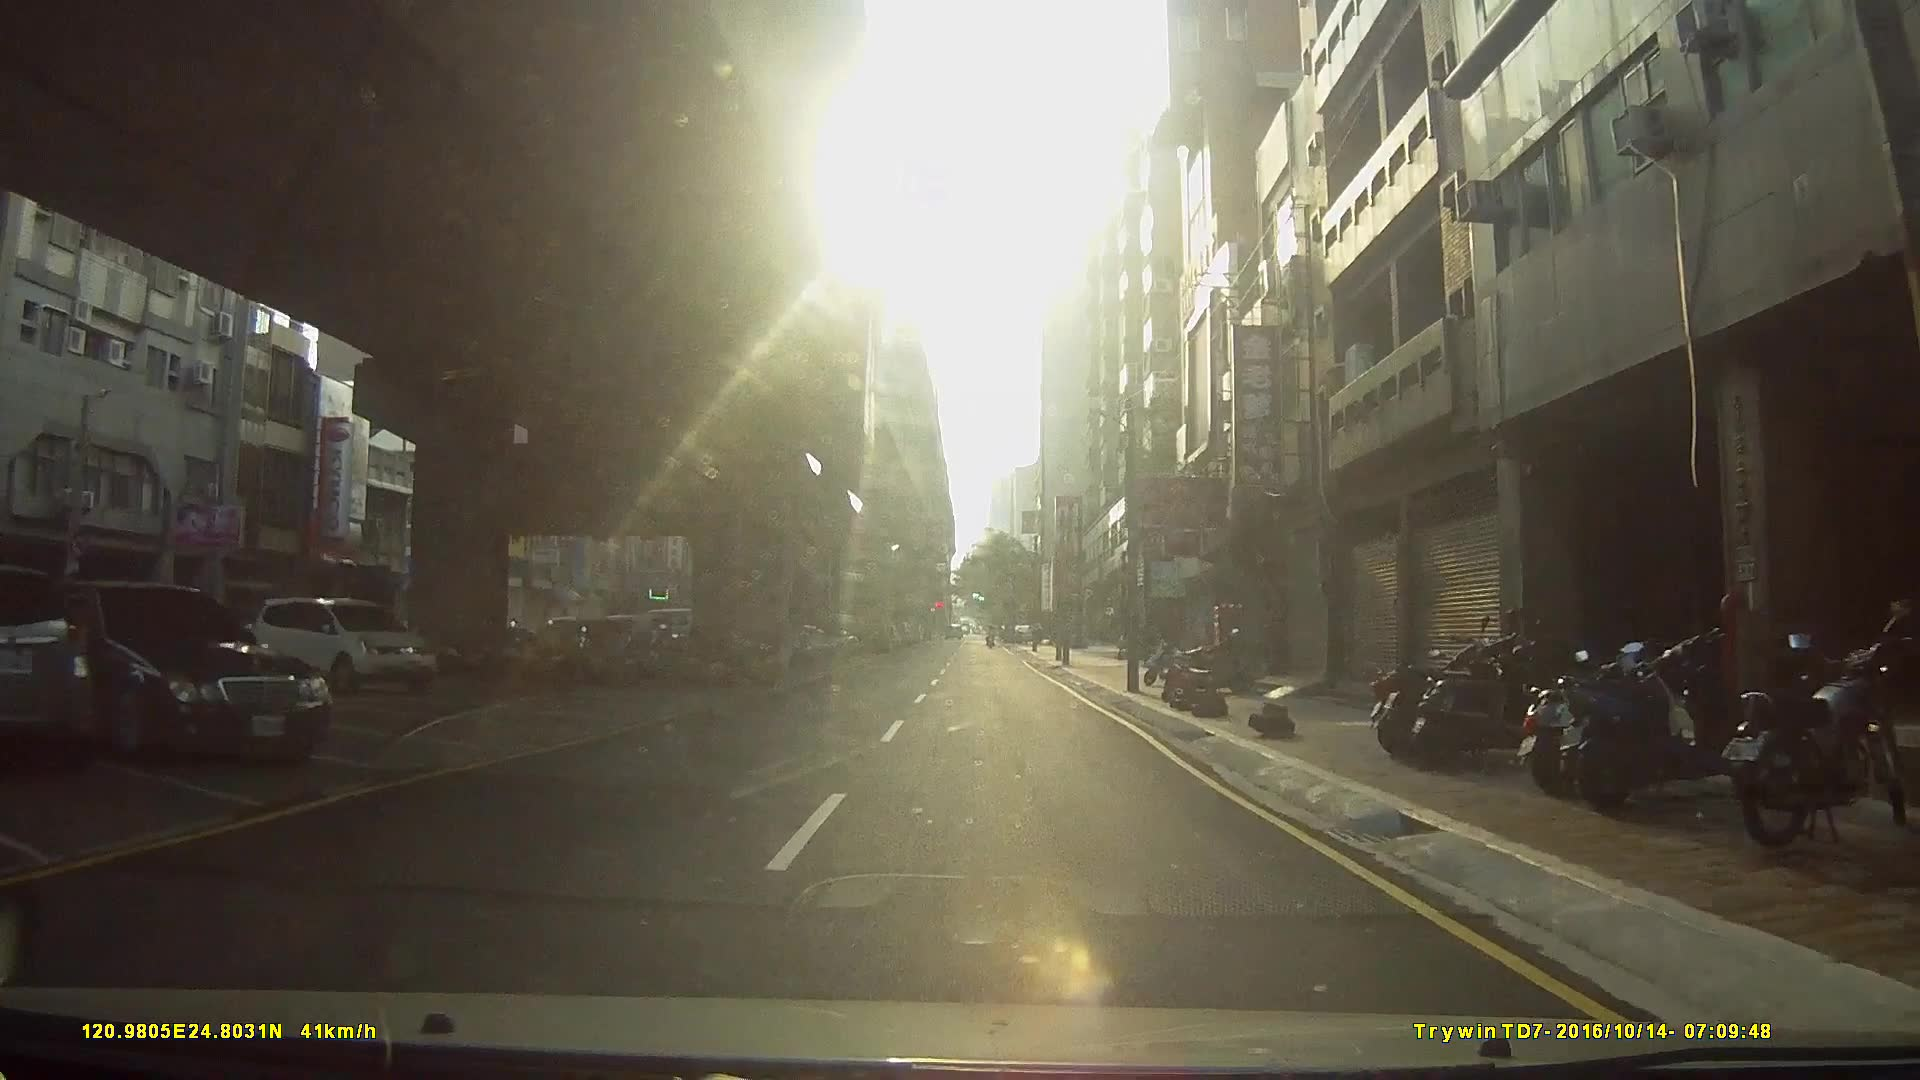vehicle: (26, 579, 332, 762), (1, 567, 92, 778), (248, 597, 434, 691)
